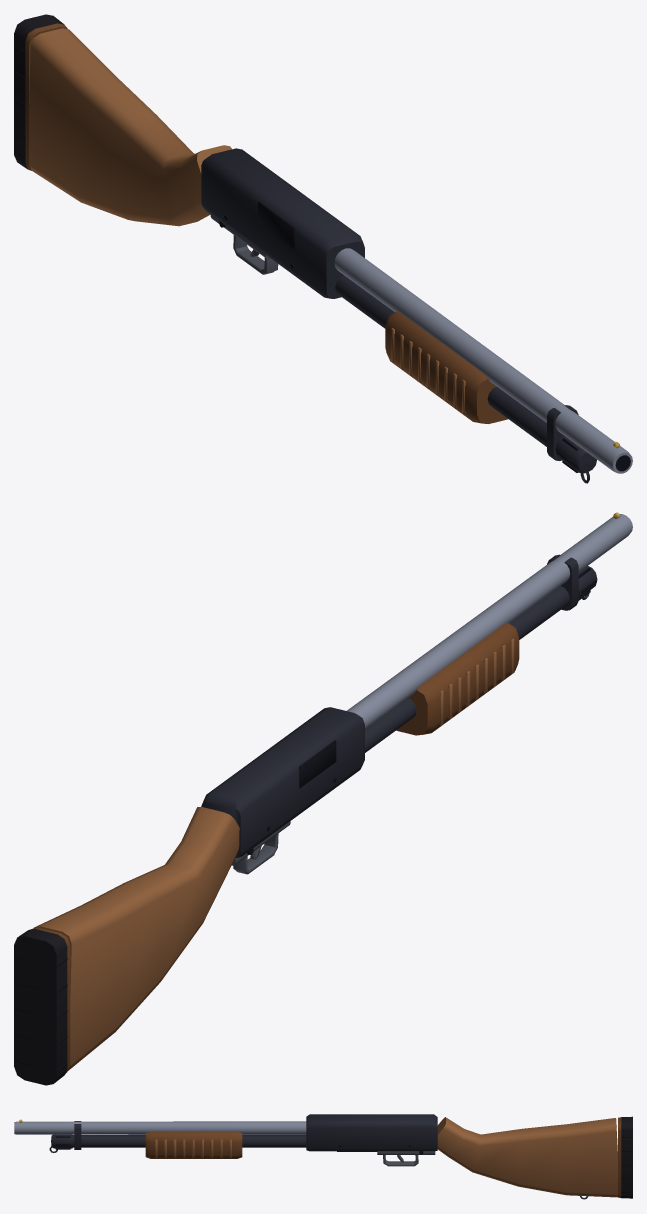
Rendered from shotgun.fbx.
The picture shows the model from 3 angles, top to bottom: view 1: azimuth 30°, elevation 25°; view 2: azimuth 150°, elevation 25°; view 3: azimuth 270°, elevation 25°; orthographic projection. The views are drawn at different scales.
Parts seen in each view (by area): view 1: Body.004, Pump; view 2: Body.004, Pump; view 3: Body.004, Pump.
Part boxes in pixels (x1,y1,x2,y2): Body.004: [14, 14, 632, 483]; Pump: [385, 311, 507, 423]; Body.004: [14, 512, 632, 1085]; Pump: [396, 623, 519, 735]; Body.004: [14, 1114, 632, 1199]; Pump: [145, 1132, 242, 1158].
Bounding box in the file's own units: 5.26 × 15.55 × 106.
